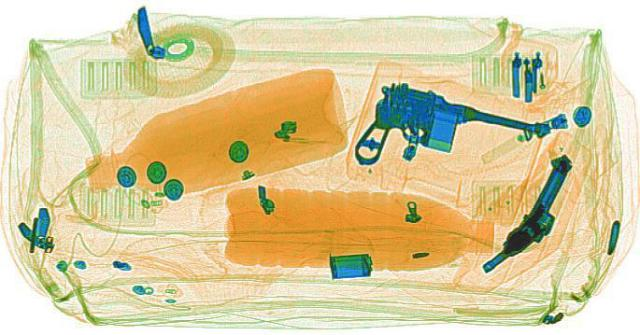Gun: (325, 79, 565, 188), (482, 152, 588, 273)
